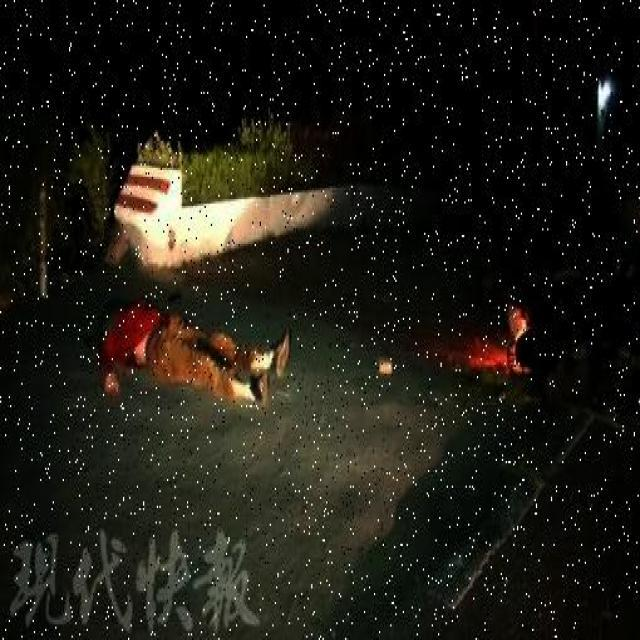fall: (88, 293, 288, 405)
